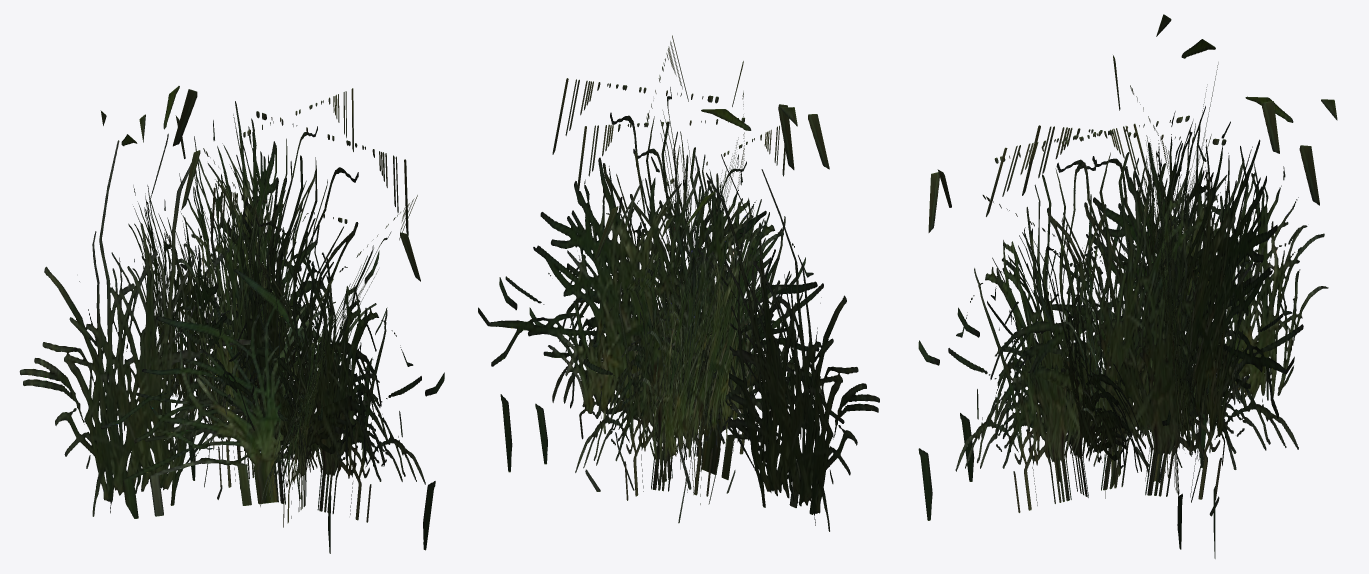
Rendered from forest_grass_003_c_LOD1.gltf.
3 views of the same model, side by side, from view 1: azimuth 30°, elevation 25°; view 2: azimuth 150°, elevation 25°; view 3: azimuth 270°, elevation 25° (orthographic). The views are drawn at different scales.
Parts seen in each view (by area): view 1: meadow_grass_002_c_LOD1; view 2: meadow_grass_002_c_LOD1; view 3: meadow_grass_002_c_LOD1.
Boxes of the visible parts, x1=… form: meadow_grass_002_c_LOD1: x1=19, y1=86, x2=444, y2=553; meadow_grass_002_c_LOD1: x1=478, y1=35, x2=879, y2=531; meadow_grass_002_c_LOD1: x1=918, y1=14, x2=1337, y2=558.
Bounding box in the file's own units: 0.8929 × 0.9027 × 0.8637.
